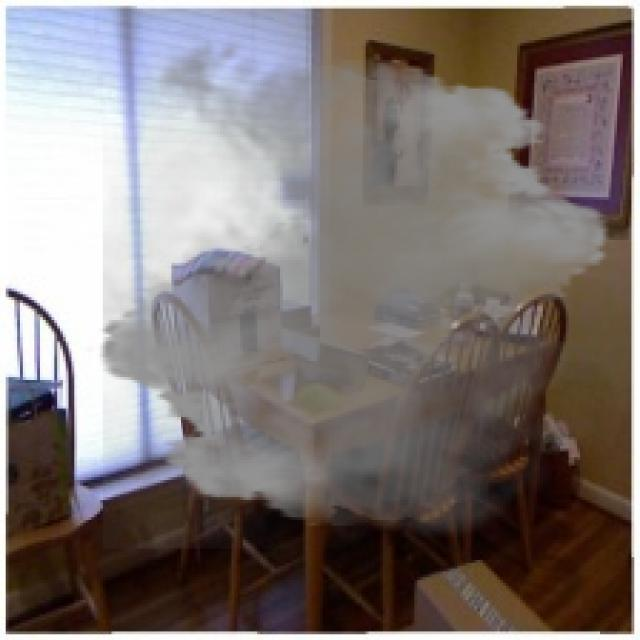Smoke: (83, 22, 626, 548)
